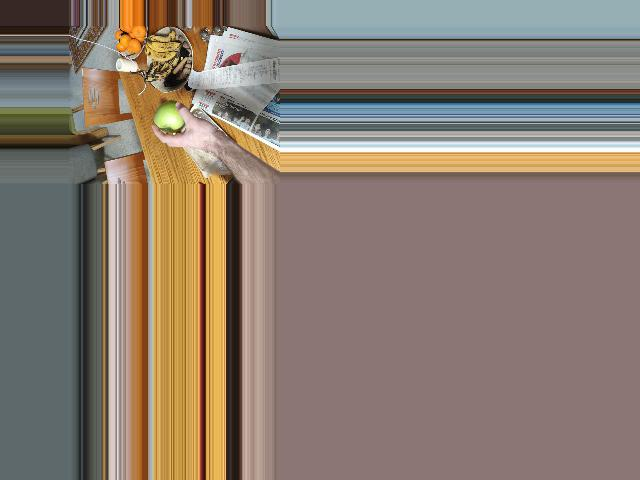apple: (152, 102, 186, 132)
